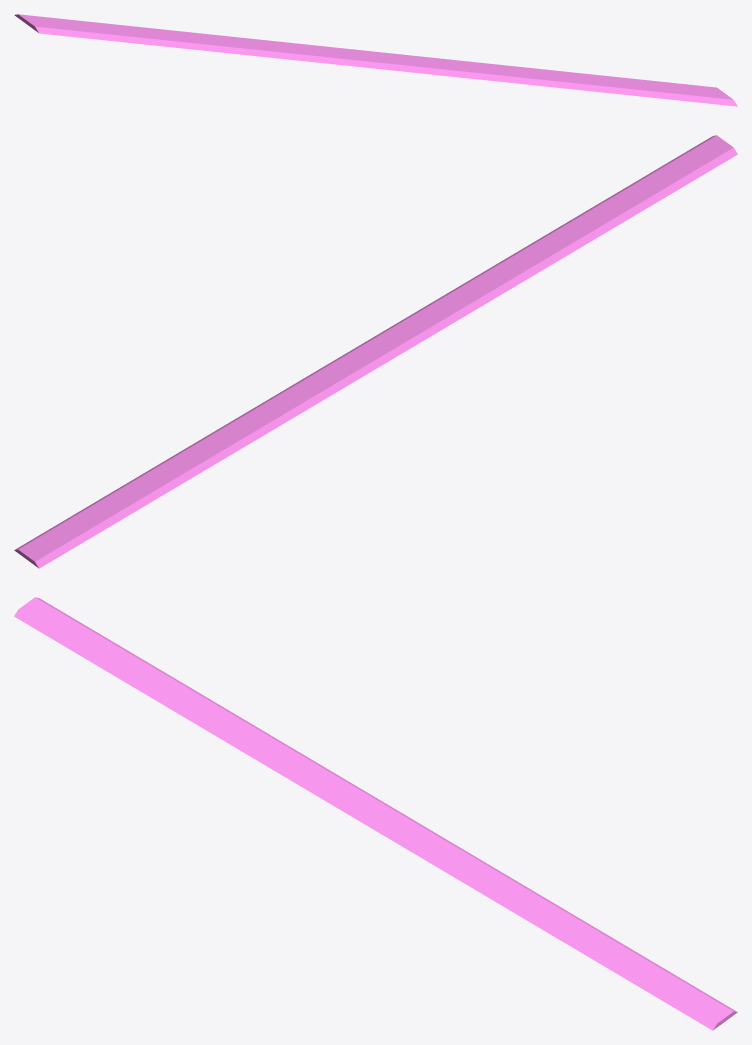
The model's file is slav_deco_02.gltf.
3 views of the same model, one above another, from view 1: azimuth 30°, elevation 25°; view 2: azimuth 210°, elevation 25°; view 3: azimuth 330°, elevation 25° (orthographic).
Visible parts, largest first — view 1: slav_deco_02; view 2: slav_deco_02; view 3: slav_deco_02.
Part boxes in pixels (box(x1,y1,x2,y2)): slav_deco_02: box(14, 14, 737, 106); slav_deco_02: box(14, 135, 737, 568); slav_deco_02: box(14, 597, 737, 1030).
Size of the model in its own units: 7.68 by 2.6 by 0.48.
